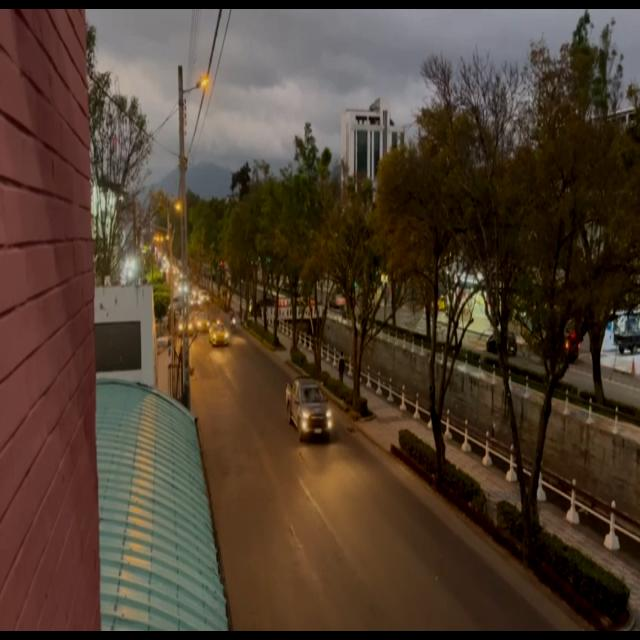CMT: (285, 376, 332, 439)
